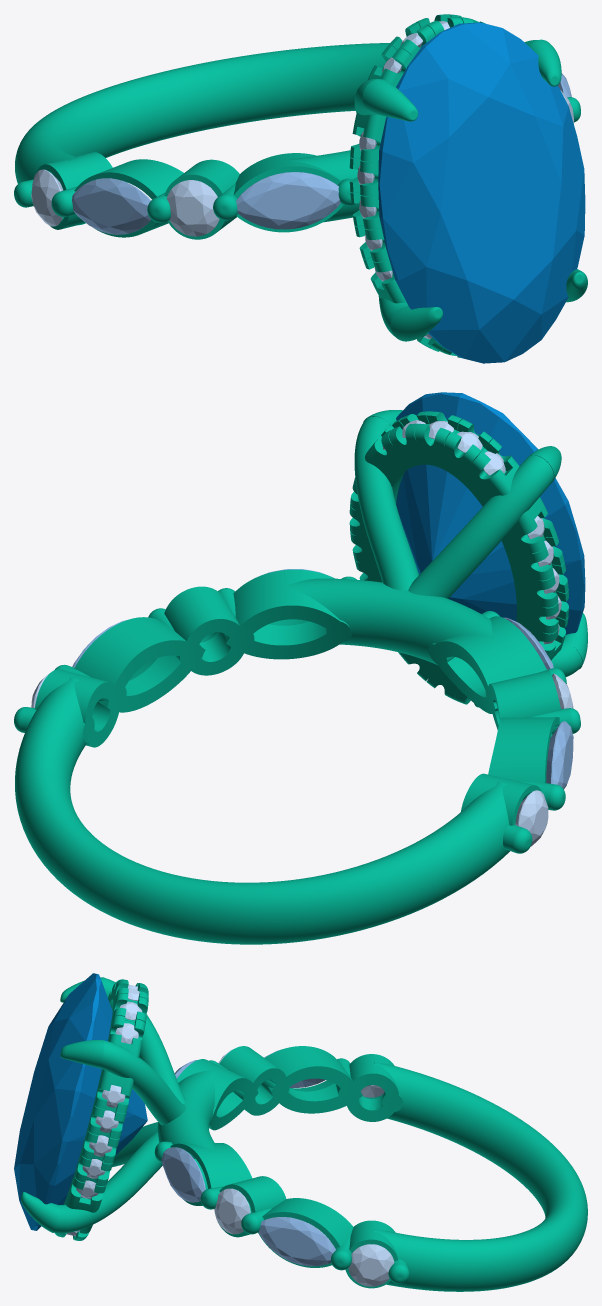
3 renders of one model, top to bottom at view 1: azimuth 30°, elevation 25°; view 2: azimuth 150°, elevation 25°; view 3: azimuth 270°, elevation 25°, orthographic. The views are drawn at different scales.
Visible parts, largest first — view 1: Diamond_Oval, VR588(base).3dm, Diamond_Marquise (×2), Bezel (×4), Diamond_Round (×2); view 2: VR588(base).3dm, Bezel (×8), Diamond_Oval, Diamond_Marquise, Diamond_Round; view 3: VR588(base).3dm, Bezel (×8), Diamond_Oval, Diamond_Marquise (×2), Diamond_Round (×2).
Boxes of the visible parts, x1=… form: Diamond_Oval: x1=378, y1=22, x2=585, y2=363; VR588(base).3dm: x1=14, y1=14, x2=587, y2=357; Diamond_Marquise (×2): x1=72, y1=172, x2=340, y2=234; Bezel (×4): x1=36, y1=152, x2=343, y2=239; Diamond_Round (×2): x1=31, y1=169, x2=219, y2=236; VR588(base).3dm: x1=14, y1=410, x2=587, y2=944; Bezel (×8): x1=35, y1=569, x2=561, y2=825; Diamond_Oval: x1=396, y1=392, x2=585, y2=634; Diamond_Marquise: x1=546, y1=721, x2=573, y2=789; Diamond_Round: x1=515, y1=790, x2=548, y2=846; VR588(base).3dm: x1=21, y1=977, x2=587, y2=1291; Bezel (×8): x1=170, y1=1046, x2=398, y2=1288; Diamond_Oval: x1=14, y1=973, x2=147, y2=1230; Diamond_Marquise (×2): x1=161, y1=1147, x2=335, y2=1266; Diamond_Round (×2): x1=214, y1=1188, x2=394, y2=1286.
Size of the model in its own units: 2.38 by 1.44 by 2.88.
